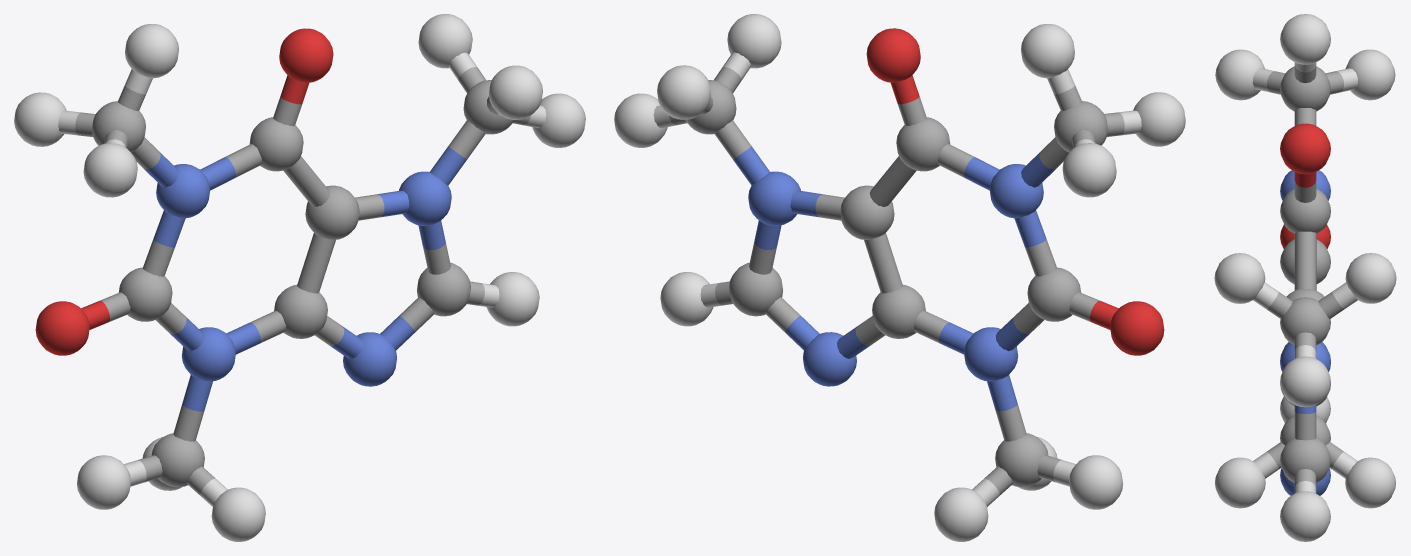
File: caffeine-bas.glb
The picture shows the model from 3 angles, left to right: view 1: azimuth 30°, elevation 25°; view 2: azimuth 150°, elevation 25°; view 3: azimuth 270°, elevation 25°; orthographic projection. The views are drawn at different scales.
Visible parts, largest first — view 1: caffeine-bas; view 2: caffeine-bas; view 3: caffeine-bas.
Part boxes in pixels (box(x1,y1,x2,y2)): caffeine-bas: box(14, 14, 585, 541); caffeine-bas: box(614, 14, 1185, 541); caffeine-bas: box(1214, 14, 1396, 541).
Bounding box in the file's own units: 8.03 × 7.06 × 2.5.
